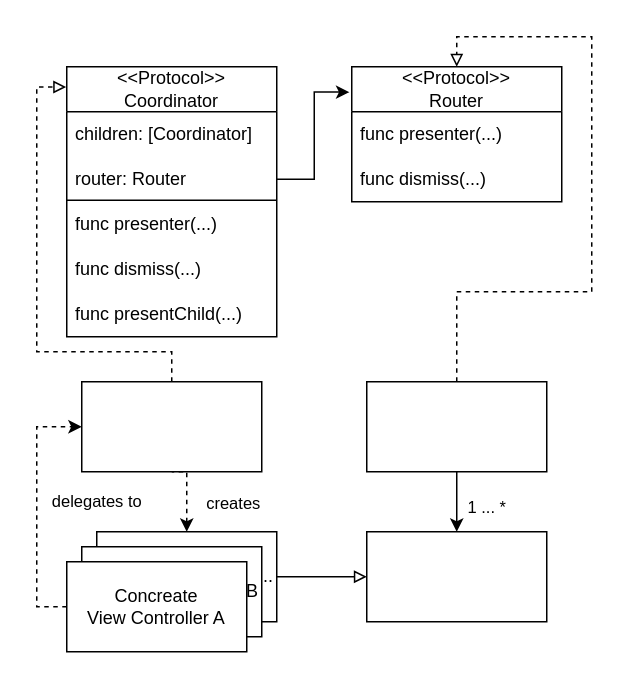
This 630x678 diagram has some shape labels left out. Each missing label, with the centre of its shape:
Concrete Coordinator: pixel 171 426
Concrete Router: pixel 456 426
UIView Controller: pixel 456 576
